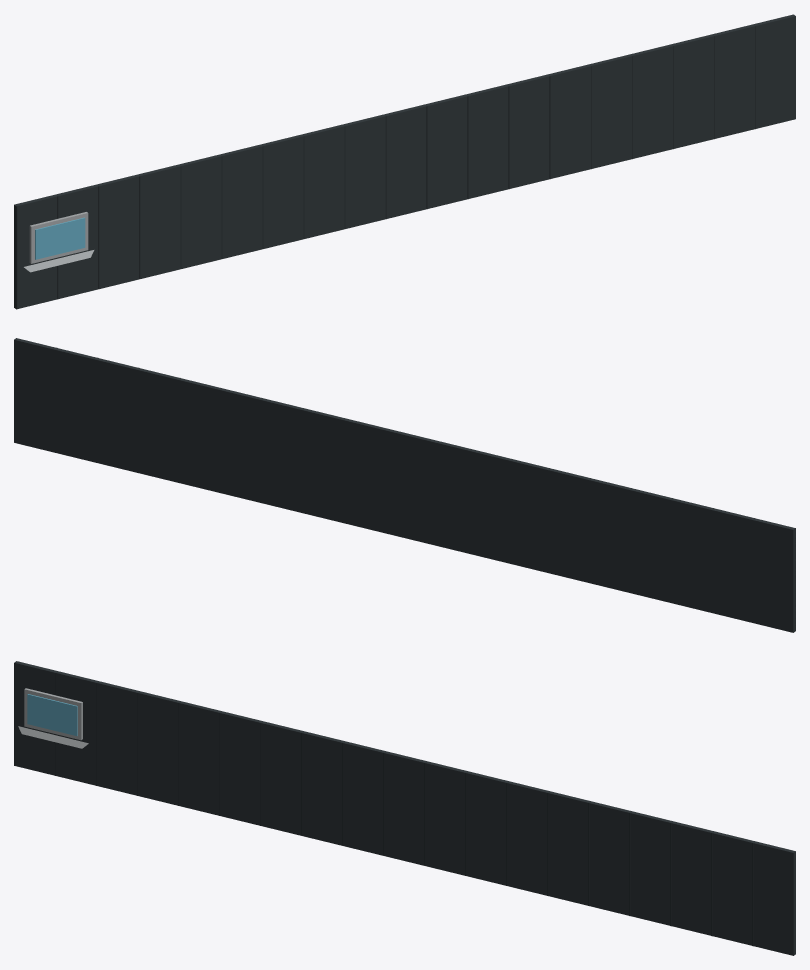
The model's file is bang_sua_may_minh_60.glb.
3 views of the same model, one above another, from view 1: azimuth 30°, elevation 25°; view 2: azimuth 150°, elevation 25°; view 3: azimuth 330°, elevation 25° (orthographic).
Visible parts, largest first — view 1: bang_sua_may_minh_60; view 2: bang_sua_may_minh_60; view 3: bang_sua_may_minh_60.
Boxes of the visible parts, x1,y1,x2,y2 form: bang_sua_may_minh_60: (14,14,795,309); bang_sua_may_minh_60: (14,338,795,632); bang_sua_may_minh_60: (14,661,795,955).
Size of the model in its own units: 5.7 by 0.72 by 0.07.
